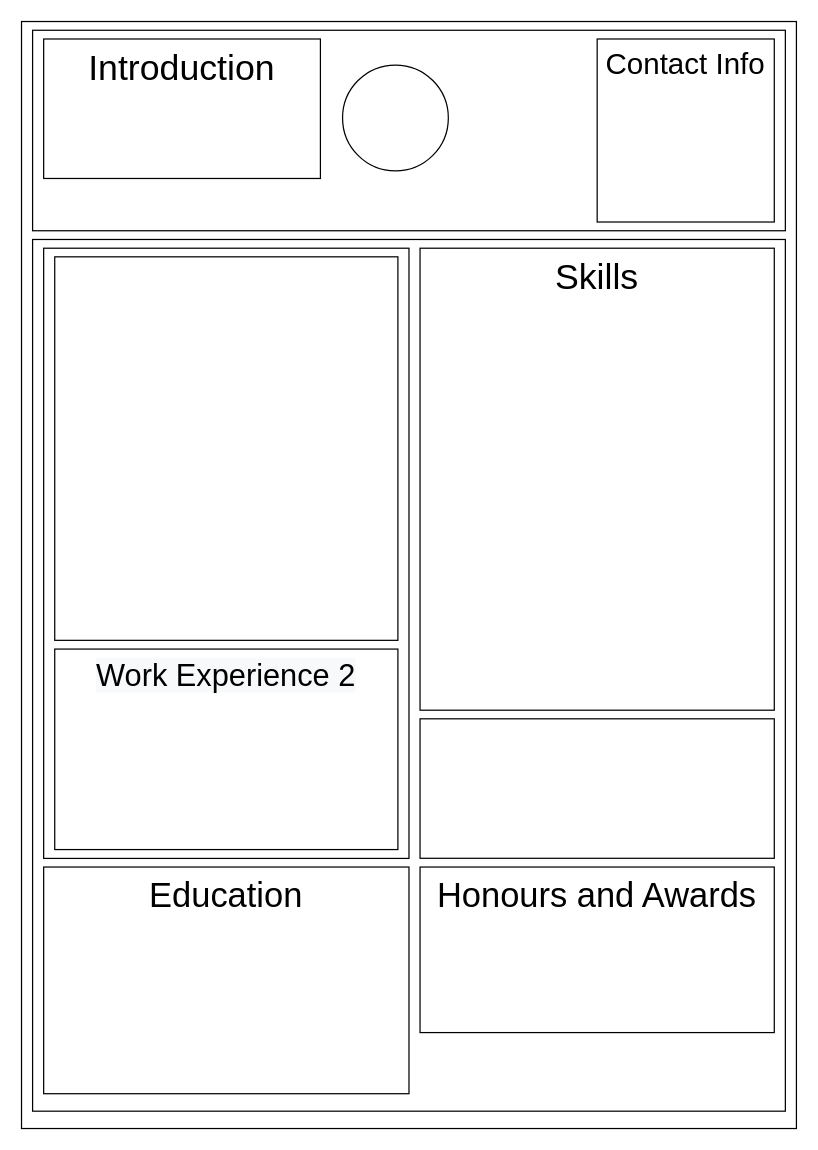
This 818x1150 diagram has some shape labels left out. Each missing label, with the centre of its shape:
"Organisation" goes at point (596, 788).
"Photo" goes at point (394, 117).
"Work Experience 1" goes at point (226, 448).
